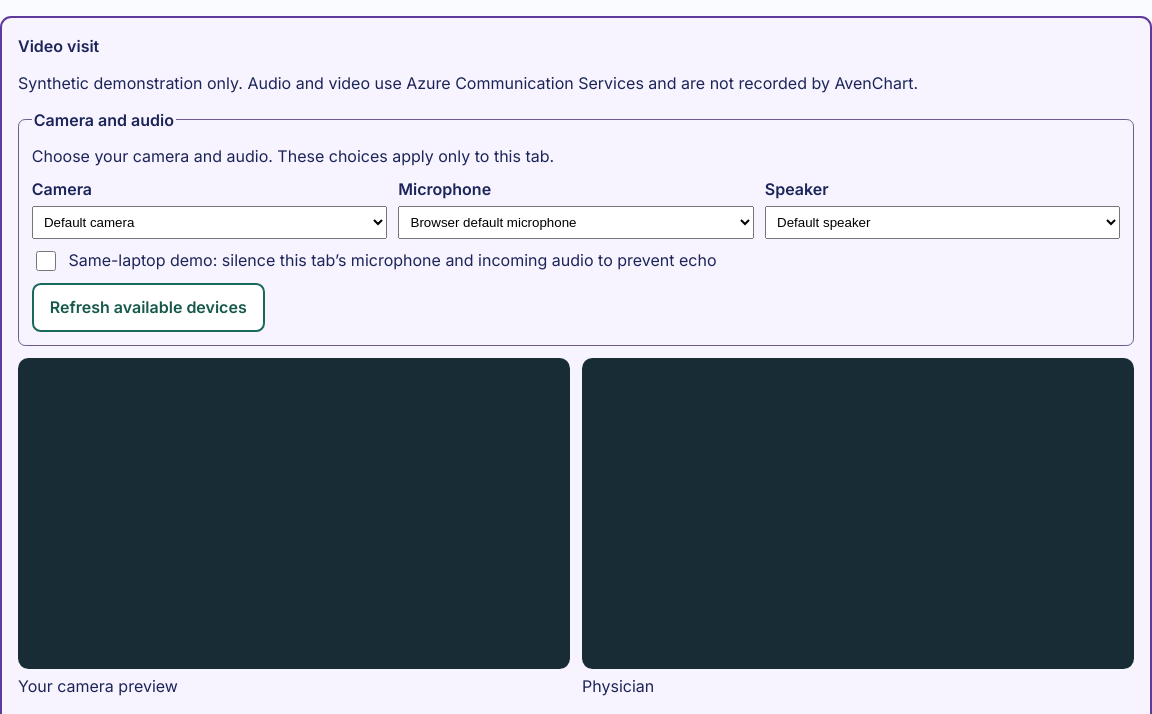
Scenario: internet video visit › keeps an unplugged camera selection and refuses to substitute the first camera
This screenshot has width=1152, height=714.
Step 1. Select "USB camera" in the dropdown named "Camera for synthetic internet call" → (209, 223), box [32,206,387,239]
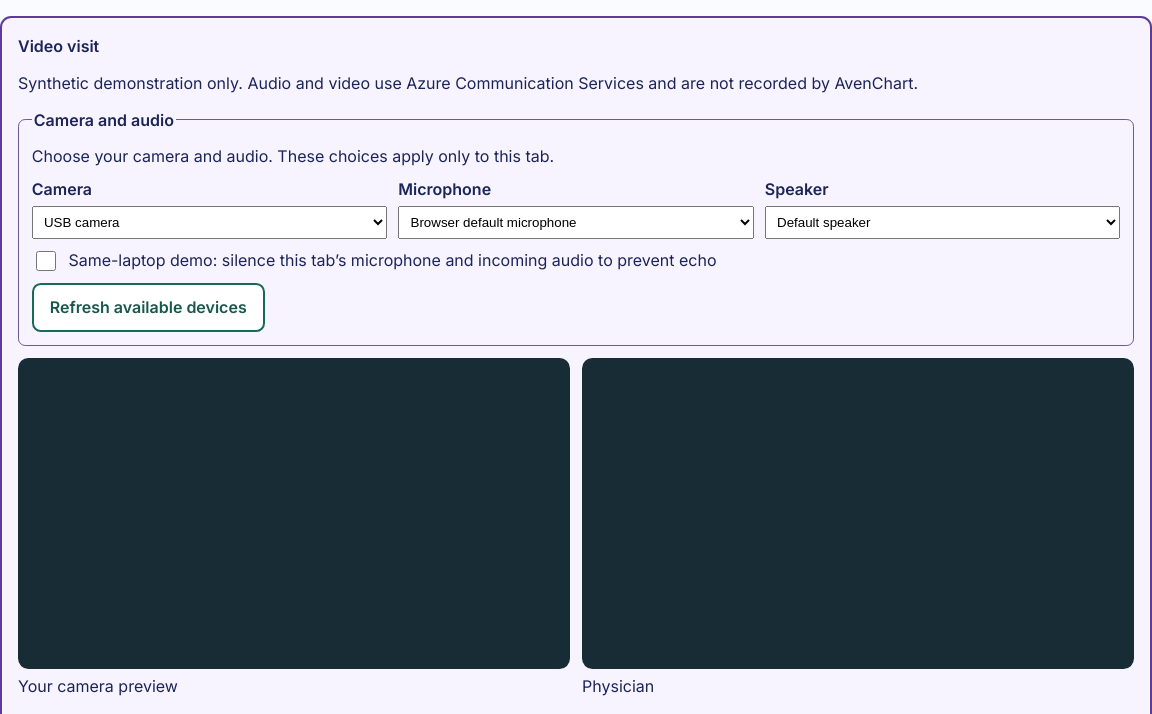
Step 2. Click the button "Refresh available devices" → (148, 307), box [32,283,265,332]
(page scrolled)
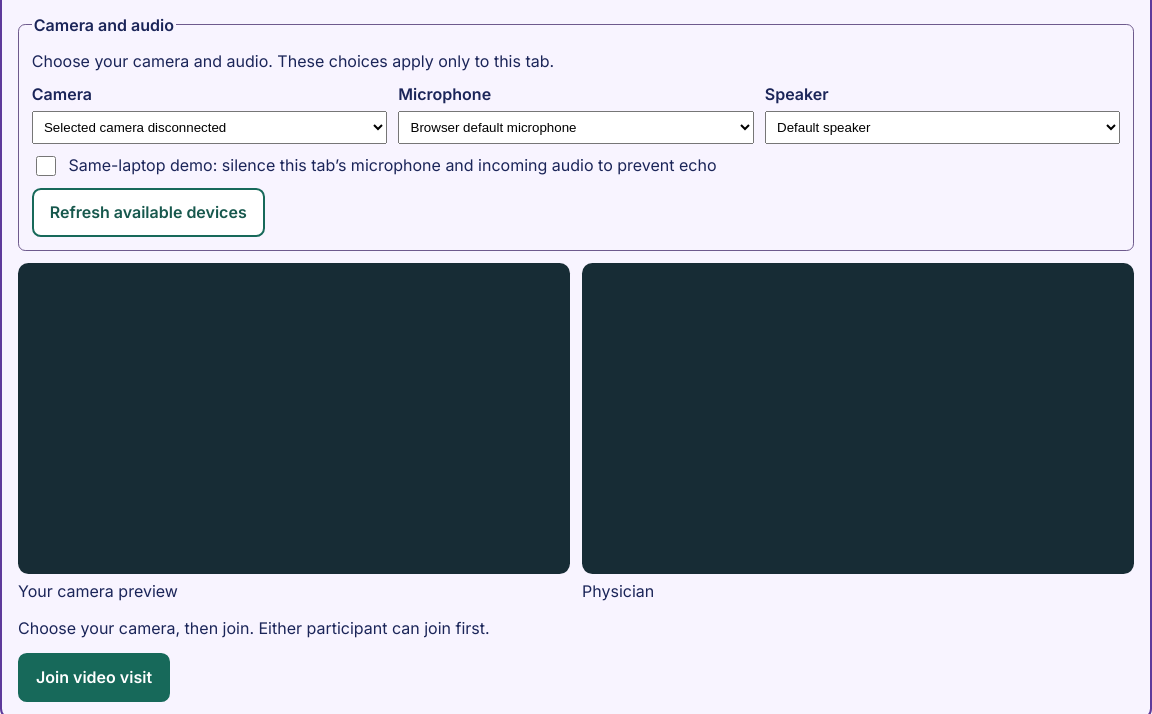
Step 3. Click the button "Join video visit" → (94, 677), box [18,653,170,702]
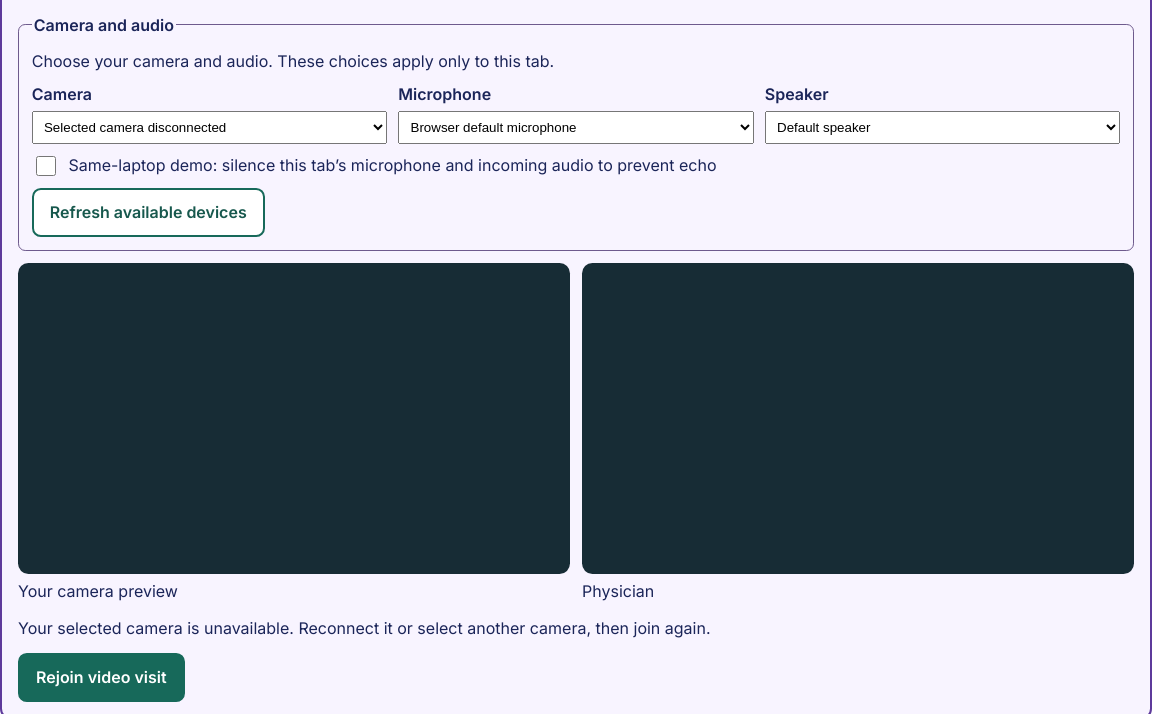
Now the message shows "Your selected camera is unavailable", box [18,618,710,638]
